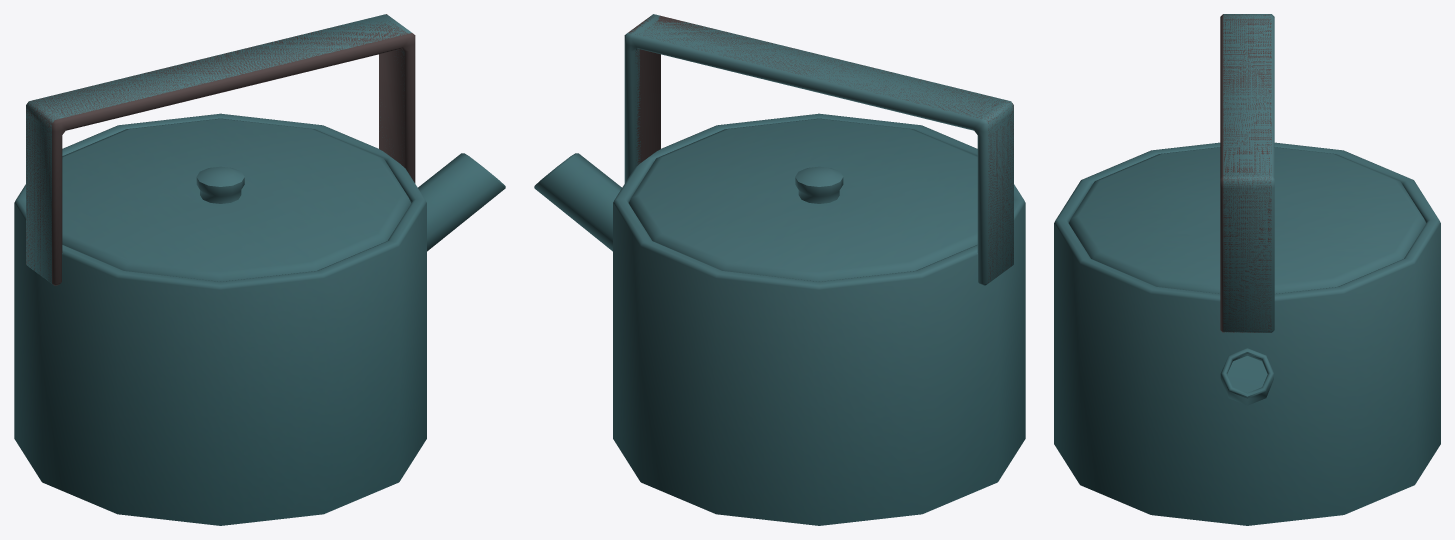
File: Teapot.fbx
The picture shows the model from 3 angles, left to right: view 1: azimuth 30°, elevation 25°; view 2: azimuth 150°, elevation 25°; view 3: azimuth 270°, elevation 25°; orthographic projection. The views are drawn at different scales.
Visible parts, largest first — view 1: Kit_1_Teapot; view 2: Kit_1_Teapot; view 3: Kit_1_Teapot.
Boxes of the visible parts, <box> form: Kit_1_Teapot: <box>14,14,505,525</box>; Kit_1_Teapot: <box>534,14,1025,525</box>; Kit_1_Teapot: <box>1054,14,1440,525</box>.
Size of the model in its own units: 14.86 by 11.43 by 11.5.
